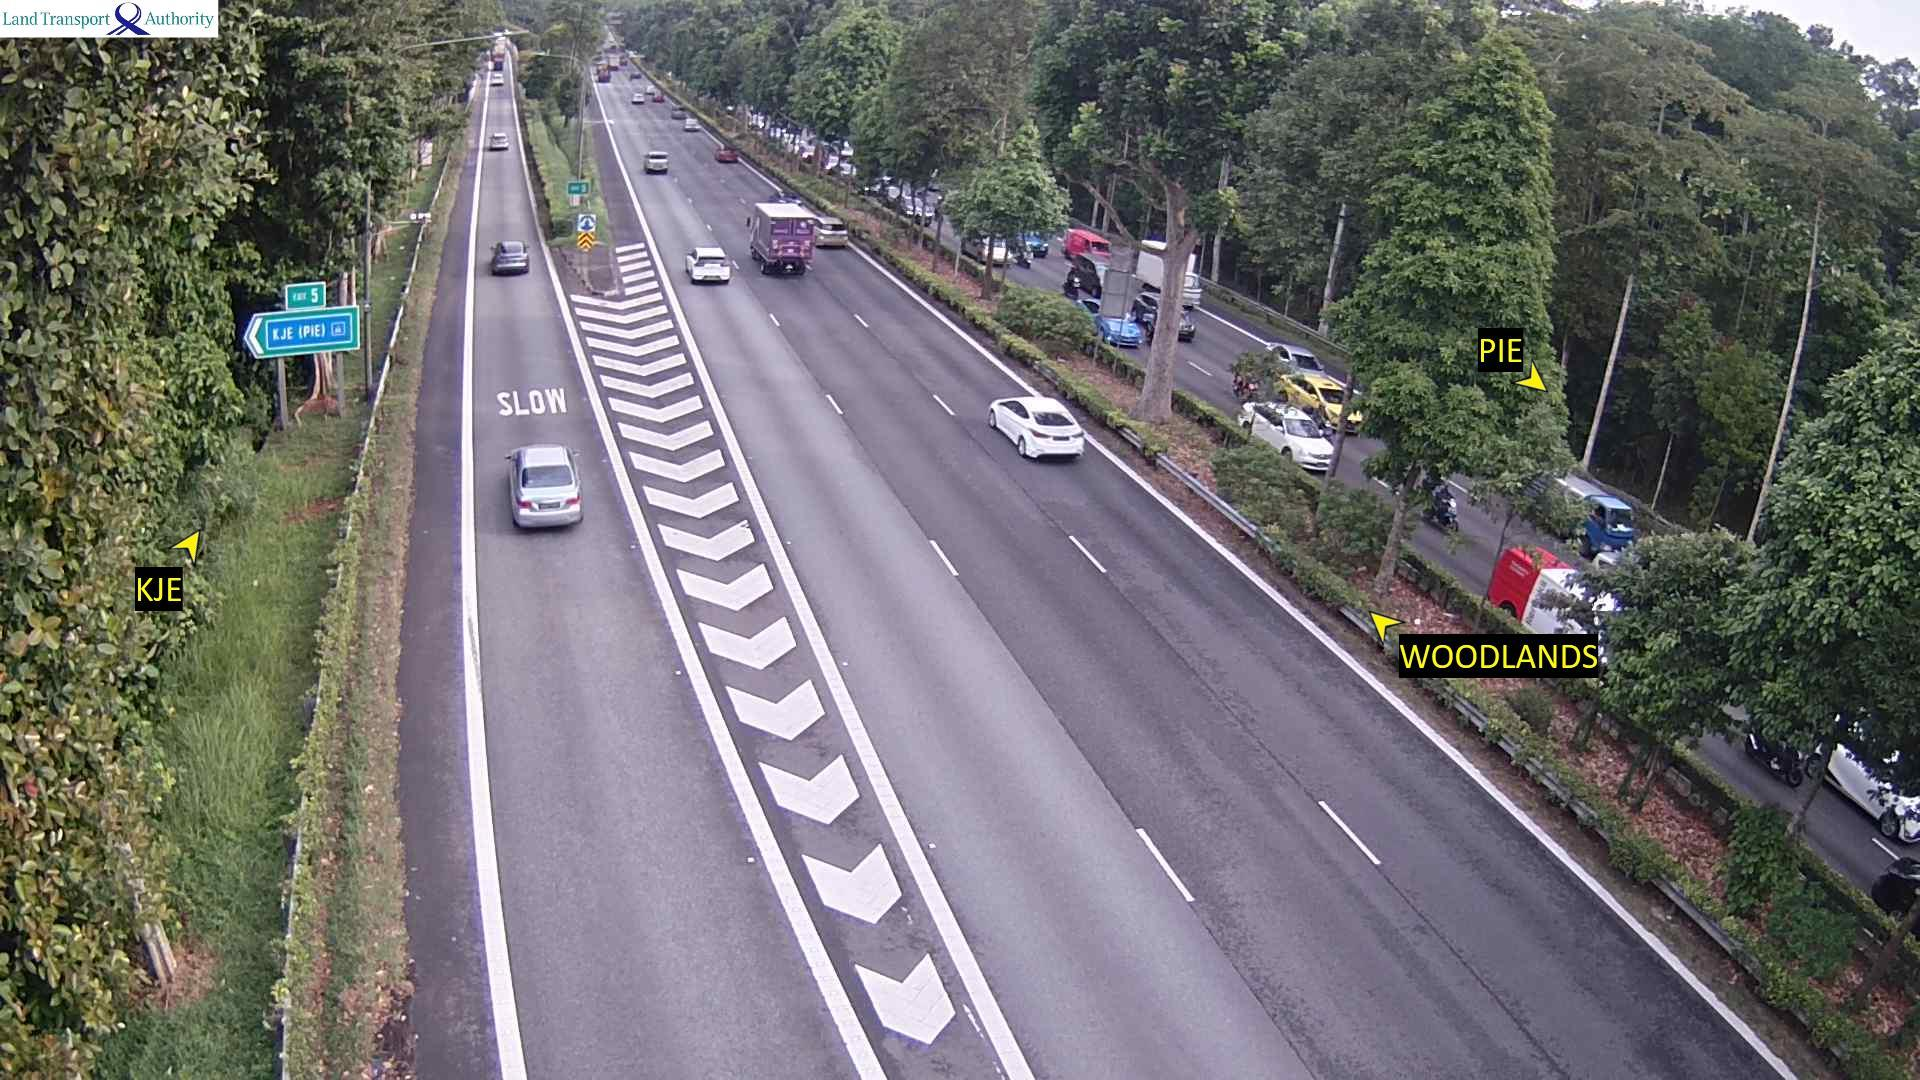cars: (1492, 535, 1642, 695), (1235, 340, 1364, 475), (1811, 707, 1918, 843), (1236, 398, 1335, 473), (504, 443, 582, 529), (986, 394, 1086, 461), (1273, 369, 1364, 435), (1130, 291, 1196, 341), (1141, 268, 1202, 308), (960, 233, 1029, 267), (684, 244, 733, 284), (1264, 341, 1324, 373), (1093, 312, 1144, 348), (1061, 227, 1111, 263), (489, 239, 529, 274), (897, 195, 934, 226), (813, 215, 848, 247), (861, 174, 899, 201), (1019, 229, 1048, 258), (1180, 270, 1202, 308), (642, 149, 668, 173), (714, 143, 737, 162), (487, 131, 508, 150), (593, 63, 610, 81), (647, 86, 664, 102), (682, 115, 700, 130), (488, 69, 503, 84), (670, 105, 685, 119), (630, 90, 645, 103)
motorcycle: (1422, 485, 1460, 532)
trucks: (1508, 448, 1642, 562), (745, 200, 816, 275), (1134, 237, 1202, 309)
